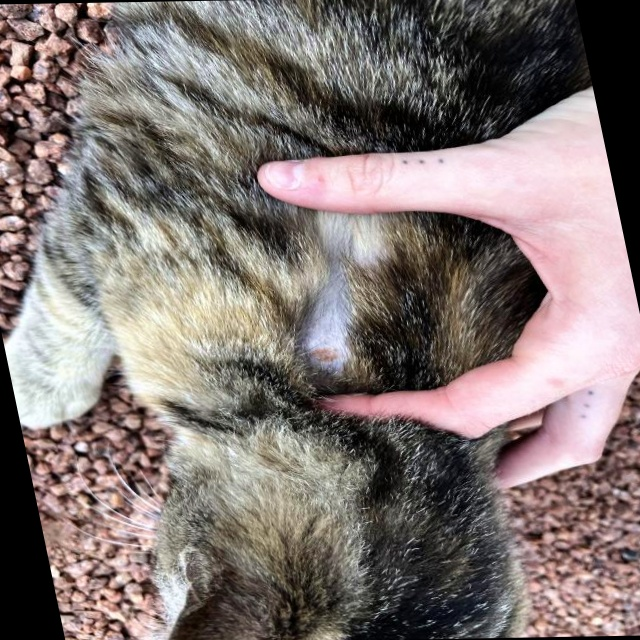hairloss: (260, 205, 419, 393)
